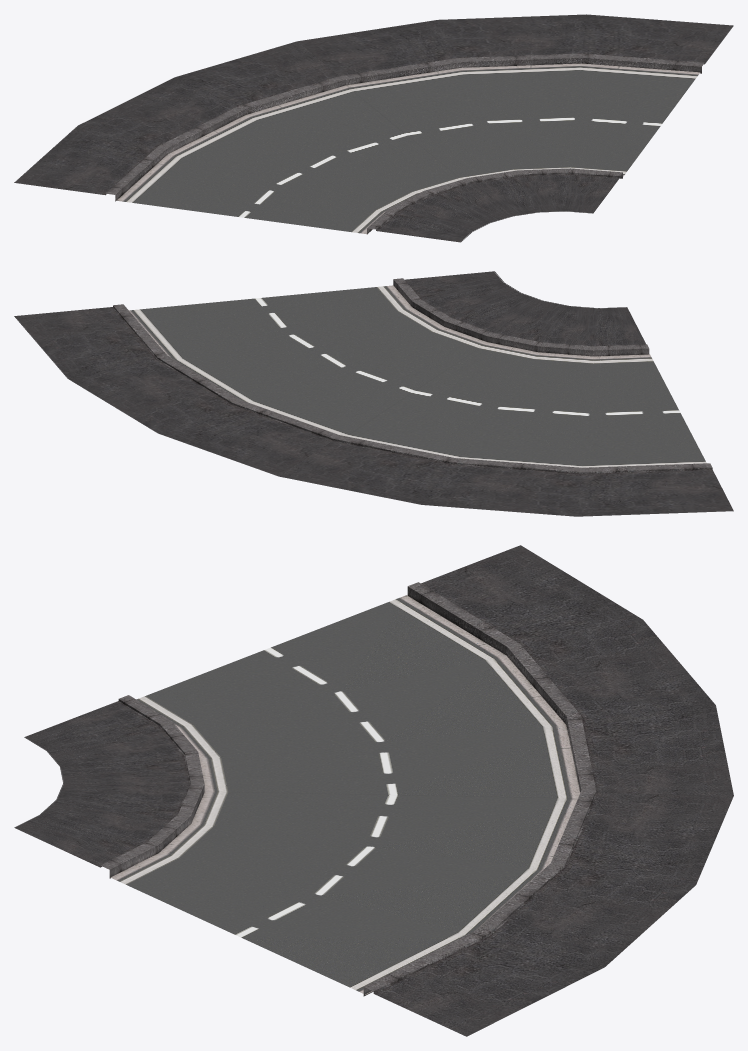
File: 2 lines corner with path road.FBX
The picture shows the model from 3 angles, top to bottom: view 1: azimuth 30°, elevation 25°; view 2: azimuth 150°, elevation 25°; view 3: azimuth 270°, elevation 25°; orthographic projection. The views are drawn at different scales.
Parts seen in each view (by area): view 1: Plane130; view 2: Plane130; view 3: Plane130.
Part boxes in pixels (<box>): Plane130: <box>14,14,733,242</box>; Plane130: <box>14,271,733,516</box>; Plane130: <box>14,545,733,1036</box>.
Bounding box in the file's own units: 36.98 × 0.3433 × 22.88.
